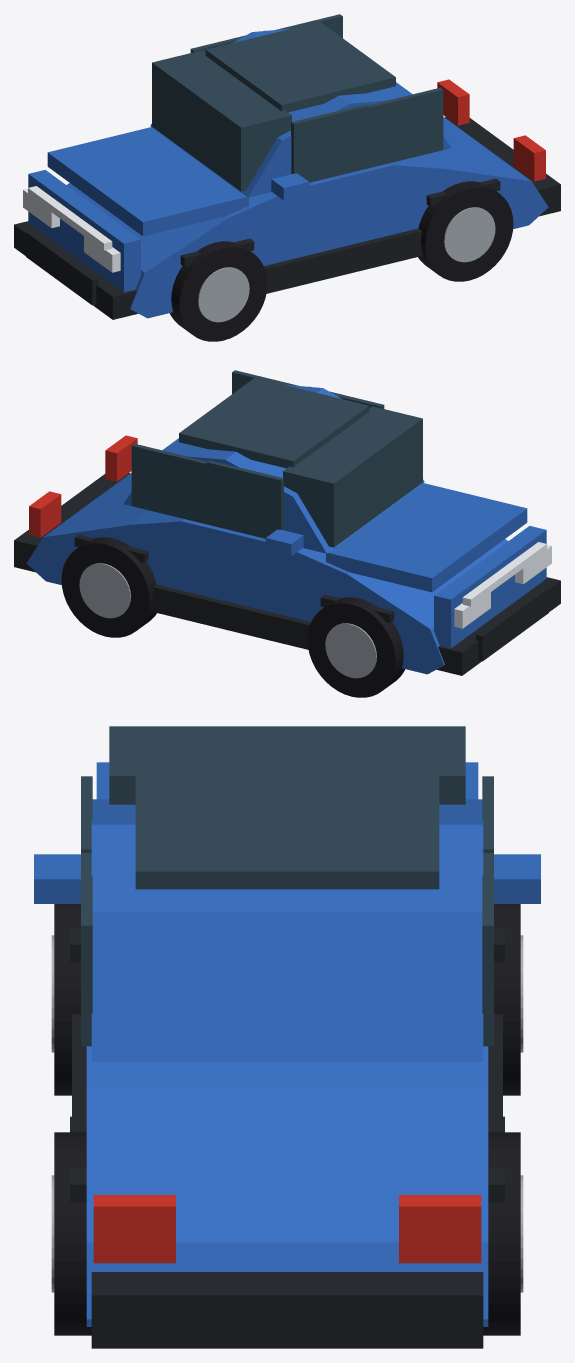
File: ESF_V2_Classic_Sports_Car_Demo_ThreeJS_YUp.glb
3 renders of one model, top to bottom at view 1: azimuth 30°, elevation 25°; view 2: azimuth 150°, elevation 25°; view 3: azimuth 270°, elevation 25°, orthographic. The views are drawn at different scales.
Parts seen in each view (by area): view 1: Body Shell, Front Hood, Windshield Glass, Roof Glass, Wheel_Front_Left, Wheel_Rear_Left, Front Side Glass Left, Rear Side Glass Left, Front Fascia, Side Sill Left, Roof Frame, Front Lower Grille (+11 smaller); view 2: Body Shell, Front Hood, Windshield Glass, Roof Glass, Wheel_Front_Right, Wheel_Rear_Right, Front Side Glass Right, Rear Side Glass Right, Front Fascia, Side Sill Right, Roof Frame, Front Lower Grille (+11 smaller); view 3: Roof Frame, Body Shell, Roof Glass, Rear Bumper, Windshield Glass, Wheel_Rear_Left, Wheel_Rear_Right, Rear Lamp Left, Rear Lamp Right, Wheel_Front_Left, Wheel_Front_Right, Side Mirror Left (+10 smaller).
Part boxes in pixels (x1=…): Body Shell: x1=66, y1=117, x2=548, y2=318; Front Hood: x1=47, y1=127, x2=248, y2=236; Windshield Glass: x1=152, y1=50, x2=291, y2=191; Roof Glass: x1=205, y1=22, x2=395, y2=112; Wheel_Front_Left: x1=169, y1=241, x2=267, y2=341; Wheel_Rear_Left: x1=418, y1=181, x2=513, y2=281; Front Side Glass Left: x1=291, y1=104, x2=368, y2=182; Rear Side Glass Left: x1=368, y1=87, x2=443, y2=167; Front Fascia: x1=28, y1=170, x2=140, y2=292; Side Sill Left: x1=264, y1=228, x2=422, y2=293; Roof Frame: x1=150, y1=28, x2=451, y2=197; Front Lower Grille: x1=26, y1=230, x2=98, y2=305; Body Shell: x1=26, y1=473, x2=508, y2=674; Front Hood: x1=326, y1=483, x2=527, y2=592; Windshield Glass: x1=283, y1=406, x2=422, y2=547; Roof Glass: x1=179, y1=378, x2=369, y2=468; Wheel_Front_Right: x1=307, y1=597, x2=405, y2=697; Wheel_Rear_Right: x1=61, y1=537, x2=156, y2=637; Front Side Glass Right: x1=206, y1=460, x2=283, y2=538; Rear Side Glass Right: x1=131, y1=443, x2=206, y2=523; Front Fascia: x1=434, y1=526, x2=546, y2=648; Side Sill Right: x1=152, y1=584, x2=310, y2=649; Roof Frame: x1=123, y1=384, x2=424, y2=553; Front Lower Grille: x1=476, y1=586, x2=548, y2=661; Roof Frame: x1=91, y1=799, x2=483, y2=1062; Body Shell: x1=86, y1=1046, x2=488, y2=1326; Roof Glass: x1=135, y1=760, x2=439, y2=889; Rear Bumper: x1=91, y1=1272, x2=483, y2=1348; Windshield Glass: x1=109, y1=726, x2=465, y2=804; Wheel_Rear_Left: x1=54, y1=1132, x2=91, y2=1335; Wheel_Rear_Right: x1=483, y1=1132, x2=520, y2=1335; Rear Lamp Left: x1=93, y1=1195, x2=175, y2=1263; Rear Lamp Right: x1=399, y1=1195, x2=481, y2=1263; Wheel_Front_Left: x1=54, y1=904, x2=80, y2=1095; Wheel_Front_Right: x1=494, y1=904, x2=520, y2=1095; Side Mirror Left: x1=34, y1=854, x2=80, y2=903.
Size of the model in its own units: 5.34 by 2.27 by 2.59.
